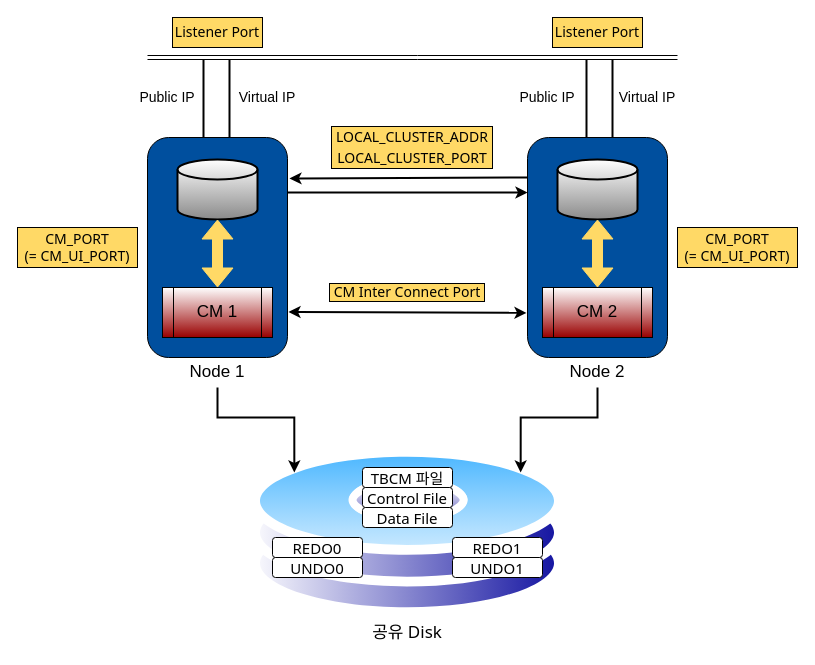
Some shapes in this 815 by 665 pixel diagram are drawn without their labels. Each missing label, with the box of its shape:
DB 1: (176, 158, 258, 220)
DB 2: (556, 158, 638, 220)
